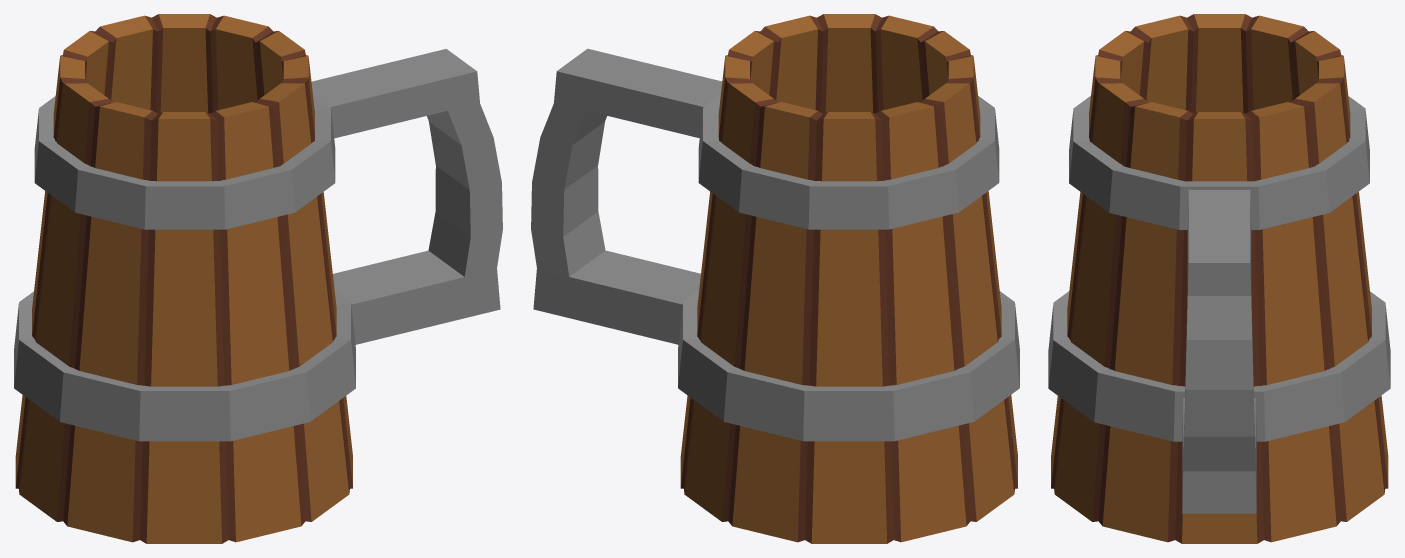
The model's file is kufel.fbx.
The picture shows the model from 3 angles, left to right: view 1: azimuth 30°, elevation 25°; view 2: azimuth 150°, elevation 25°; view 3: azimuth 270°, elevation 25°; orthographic projection.
Parts seen in each view (by area): view 1: Cylinder, Circle; view 2: Cylinder, Circle; view 3: Cylinder, Circle.
Boxes of the visible parts, x1,y1,x2,y2 form: Cylinder: (15, 14, 352, 543); Circle: (14, 49, 502, 441); Cylinder: (680, 14, 1017, 543); Circle: (531, 48, 1019, 441); Cylinder: (1051, 14, 1388, 543); Circle: (1048, 96, 1390, 513).
Bounding box in the file's own units: 447 × 391 × 296.
